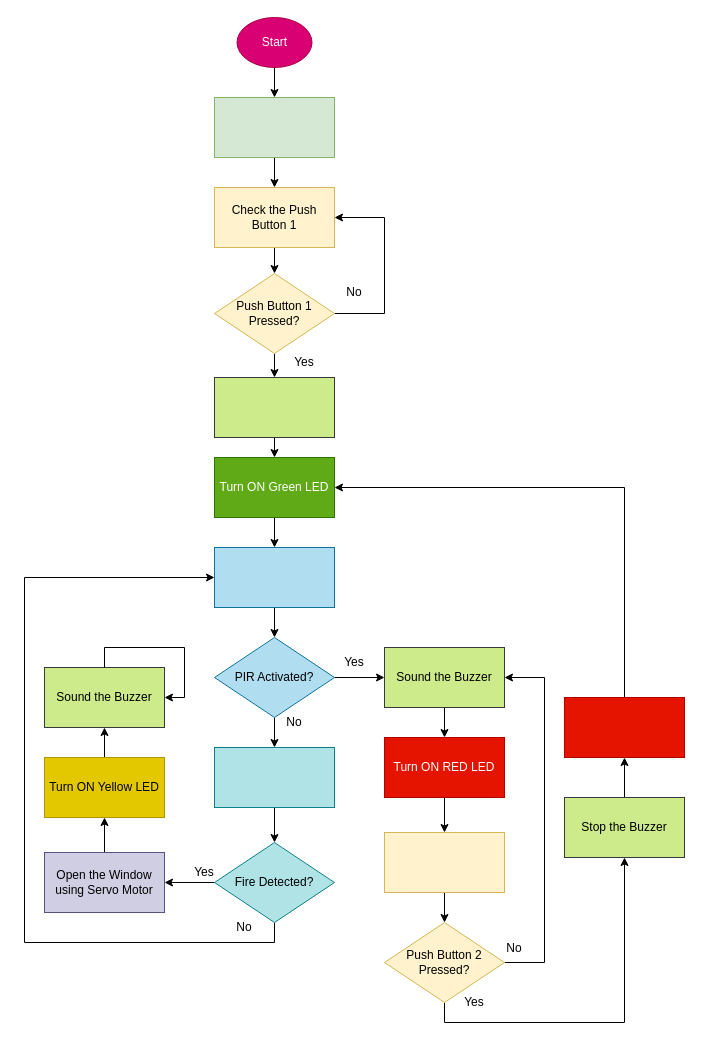
Some shapes in this 702 by 1048 pixel diagram are drawn without their labels. Each missing label, with the centre of its shape:
"Activate the Alarm System by Sound the Buzzer" belongs at [274,407].
"Check the Flame Sensor" belongs at [274,777].
"Check the PIR Sensor" belongs at [274,577].
"Check the Push Button 2 to Stop the Buzzer" belongs at [444,862].
"Initialize Input and Output" belongs at [274,127].
"Turn OFF RED LED" belongs at [624,727].
